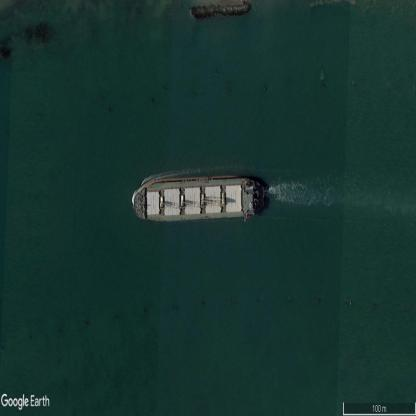ship: (133, 174, 263, 221)
